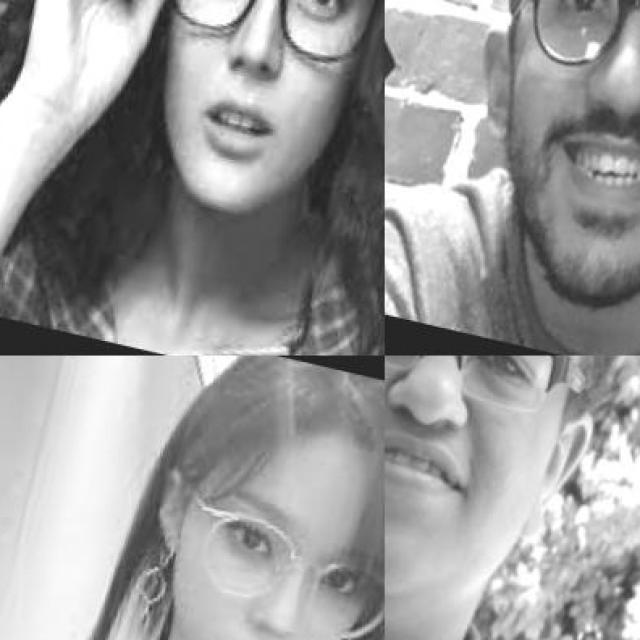Glasses: (124, 446, 383, 640), (126, 0, 383, 76), (384, 356, 600, 424), (502, 0, 640, 102)
